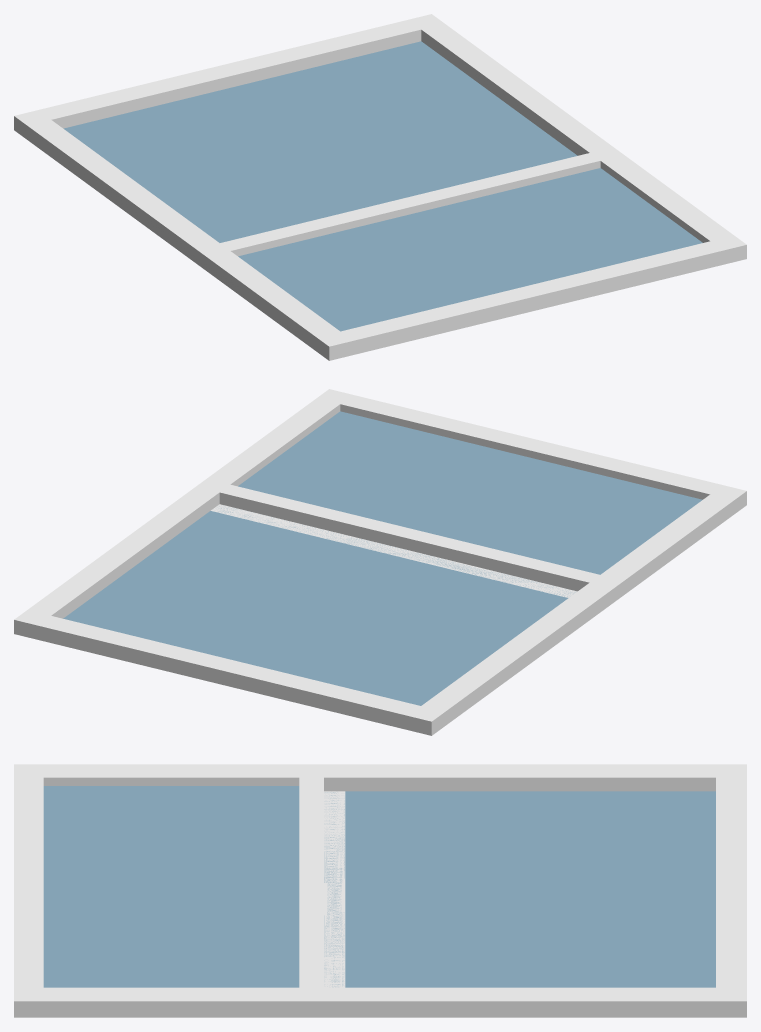
Rendered from Window.dae.
The picture shows the model from 3 angles, top to bottom: view 1: azimuth 30°, elevation 25°; view 2: azimuth 150°, elevation 25°; view 3: azimuth 270°, elevation 25°; orthographic projection. The views are drawn at different scales.
Visible parts, largest first — view 1: SketchUp (×5); view 2: SketchUp (×6); view 3: SketchUp (×6).
Boxes of the visible parts, x1,y1,x2,y2 form: SketchUp (×5): (14, 14, 746, 360); SketchUp (×6): (14, 389, 746, 735); SketchUp (×6): (14, 764, 746, 1017).
Size of the model in its own units: 42.13 by 55.06 by 1.38.
